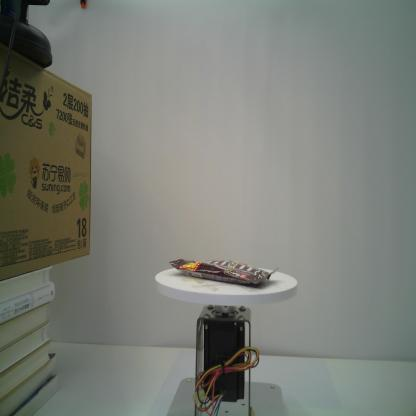Chocolate: (169, 258, 279, 285)
